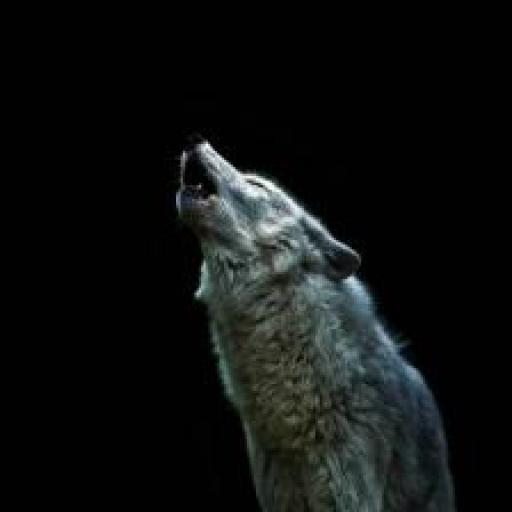wolf: (144, 114, 494, 512)
